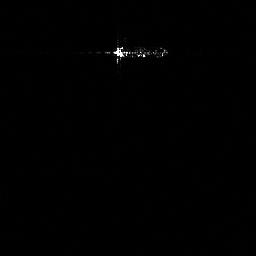ship: (112, 40, 170, 65)
